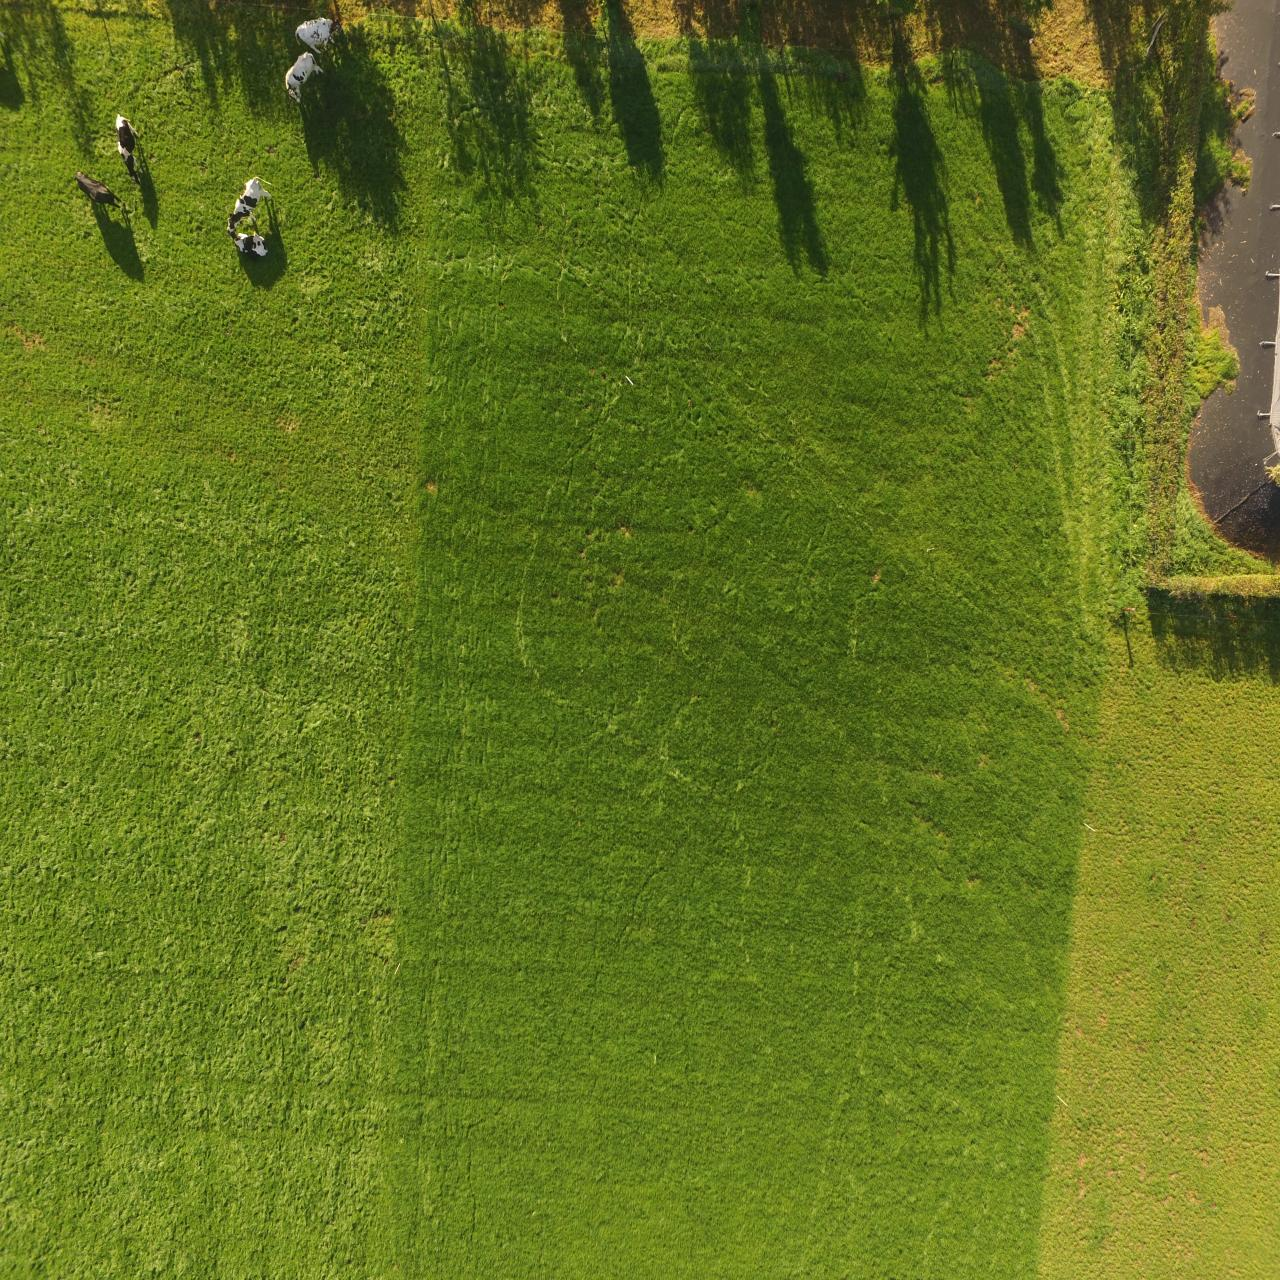cow: (75, 170, 131, 222), (115, 109, 150, 185), (279, 57, 331, 105), (226, 178, 271, 230), (294, 16, 349, 48), (237, 236, 273, 260)
